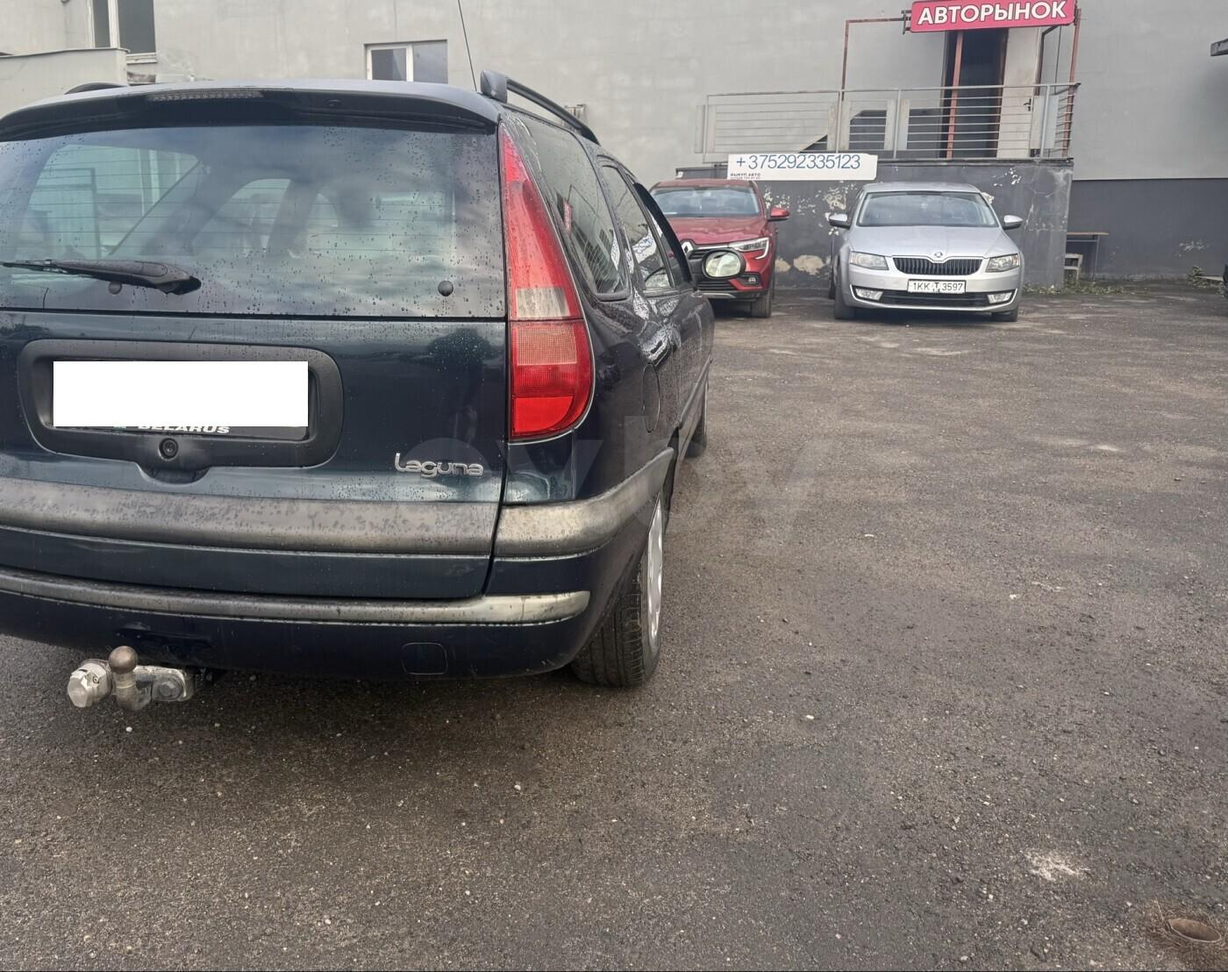Laguna_1998-2005: (0, 73, 712, 684)
